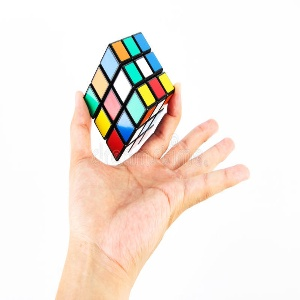cube: (83, 32, 176, 162)
